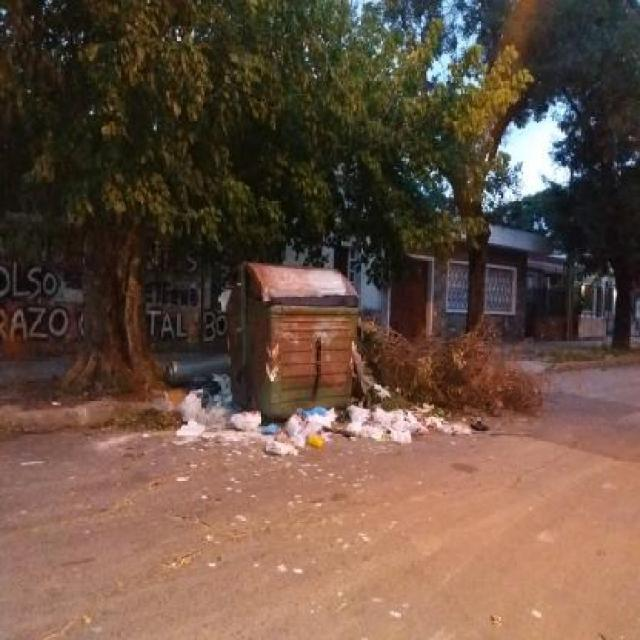garbage: (359, 320, 545, 408), (357, 395, 474, 450), (178, 391, 264, 442), (269, 414, 356, 455)
